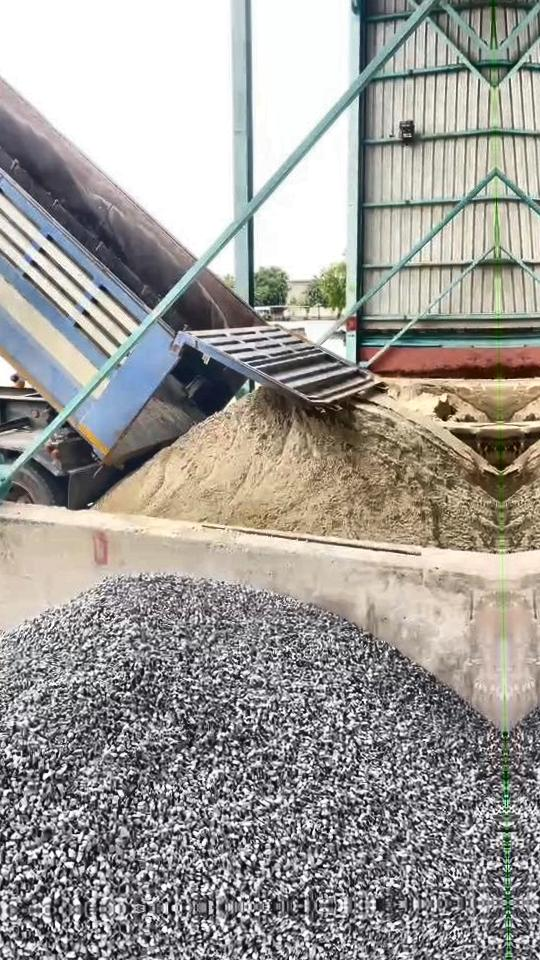gravel: (0, 576, 504, 910)
sand: (98, 390, 499, 551), (405, 392, 490, 423)
